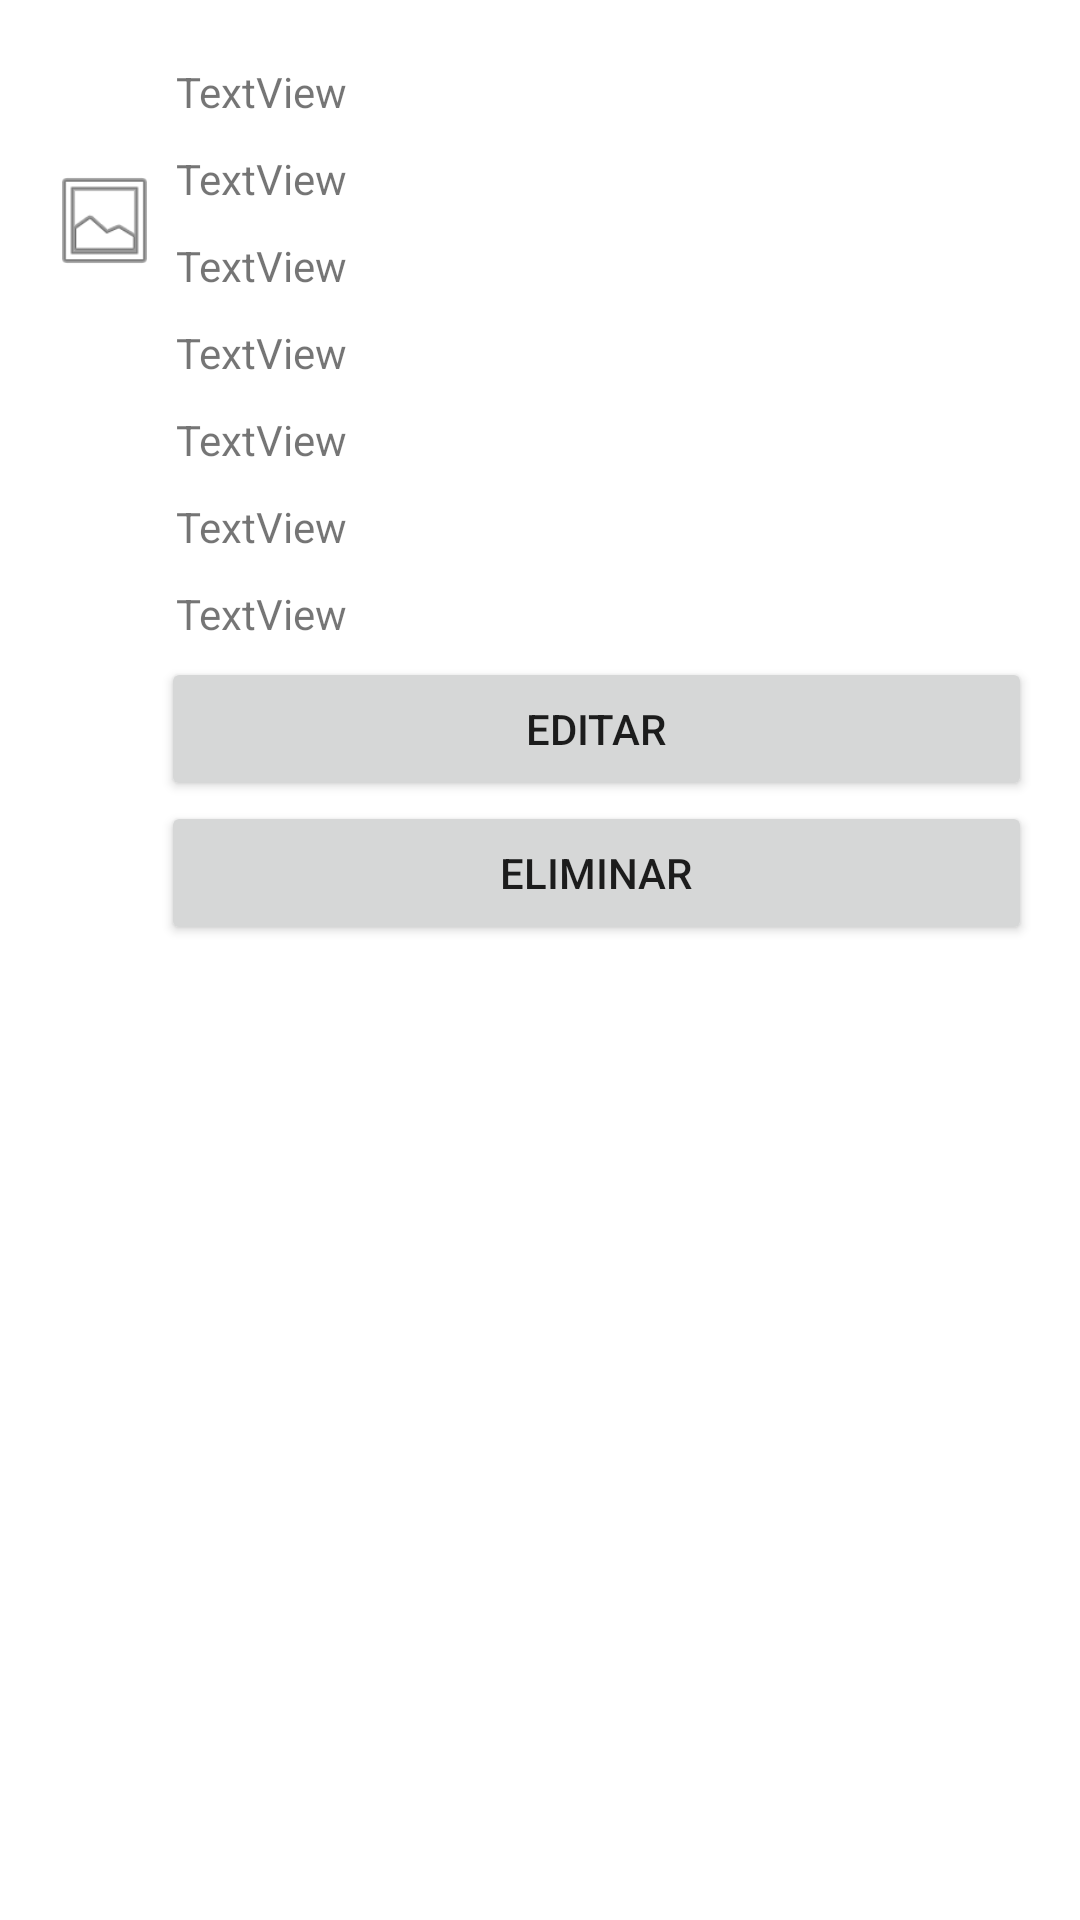

Locate icon controls on the screen. Image size 1080w x 1920h, boxes as (x1, y1, x2, y2).
gallery: (62, 178, 147, 263)
